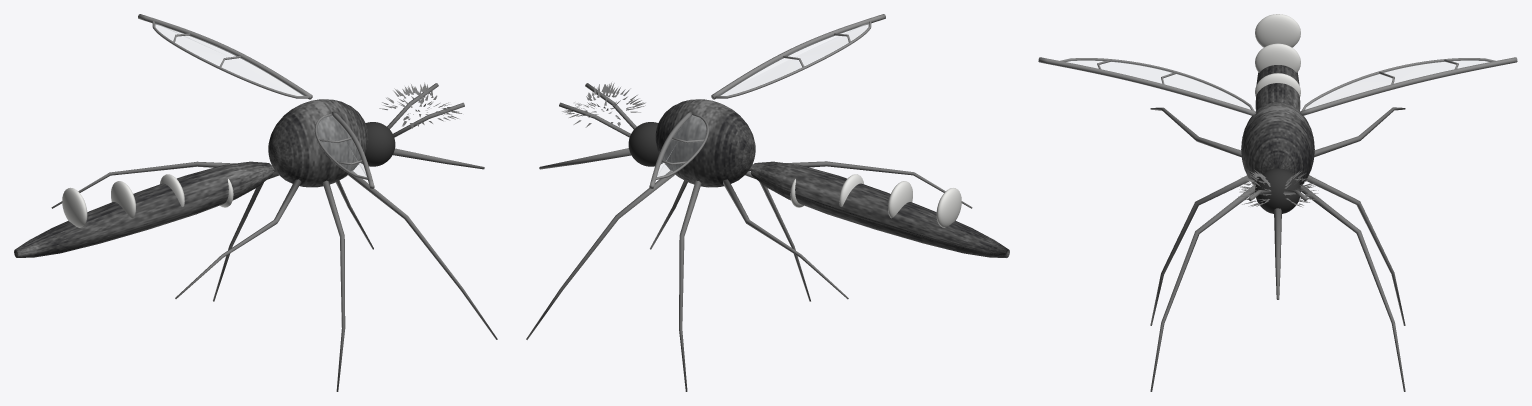
The model's file is mosquito.glb.
3 renders of one model, left to right at view 1: azimuth 30°, elevation 25°; view 2: azimuth 150°, elevation 25°; view 3: azimuth 270°, elevation 25°, orthographic. The views are drawn at different scales.
Parts seen in each view (by area): view 1: Abdomen, Thorax, wing membrane.001, wing membrane, wing leading vein.001, Head, Leg, Leg.001, Leg.002, Abdomen band.003, Leg.005, Abdomen band.002 (+5 smaller); view 2: Abdomen, Thorax, wing membrane, wing membrane.001, wing leading vein, Head, Leg.004, Leg.003, Leg.005, Abdomen band.003, Leg.002, Abdomen band.002 (+5 smaller); view 3: Thorax, wing membrane, wing membrane.001, Head, wing leading vein, wing leading vein.001, Abdomen, Abdomen band.003, Leg.003, Leg, Abdomen band.002, Leg.001 (+8 smaller).
Boxes of the visible parts, left/top/right/bottom form: Abdomen: left=14, top=161, right=272, bottom=257; Thorax: left=268, top=99, right=368, bottom=187; wing membrane.001: left=155, top=23, right=304, bottom=95; wing membrane: left=317, top=115, right=366, bottom=176; wing leading vein.001: left=138, top=14, right=312, bottom=99; Head: left=360, top=122, right=395, bottom=166; Leg: left=348, top=170, right=497, bottom=339; Leg.001: left=323, top=180, right=345, bottom=391; Leg.002: left=175, top=179, right=301, bottom=298; Abdomen band.003: left=62, top=187, right=87, bottom=227; Leg.005: left=51, top=161, right=275, bottom=208; Abdomen band.002: left=111, top=181, right=135, bottom=218; Abdomen: left=751, top=161, right=1009, bottom=257; Thorax: left=655, top=99, right=755, bottom=187; wing membrane: left=719, top=23, right=868, bottom=95; wing membrane.001: left=657, top=115, right=706, bottom=176; wing leading vein: left=711, top=14, right=885, bottom=99; Head: left=628, top=122, right=663, bottom=166; Leg.004: left=679, top=180, right=701, bottom=391; Leg.003: left=526, top=170, right=675, bottom=339; Leg.005: left=723, top=179, right=848, bottom=299; Abdomen band.003: left=936, top=188, right=961, bottom=227; Leg.002: left=748, top=161, right=972, bottom=208; Abdomen band.002: left=888, top=181, right=912, bottom=218; Thorax: left=1241, top=102, right=1314, bottom=186; wing membrane: left=1066, top=60, right=1250, bottom=109; wing membrane.001: left=1305, top=60, right=1489, bottom=109; Head: left=1255, top=168, right=1300, bottom=213; wing leading vein: left=1038, top=57, right=1255, bottom=116; wing leading vein.001: left=1300, top=57, right=1517, bottom=116; Abdomen: left=1255, top=65, right=1300, bottom=110; Abdomen band.003: left=1255, top=14, right=1300, bottom=47; Leg.003: left=1300, top=184, right=1405, bottom=391; Leg: left=1150, top=185, right=1255, bottom=391; Abdomen band.002: left=1255, top=43, right=1300, bottom=72; Leg.001: left=1150, top=175, right=1248, bottom=325.
Size of the model in its own units: 2.4 by 1.24 by 2.08.
6 materials, 1 textured.
